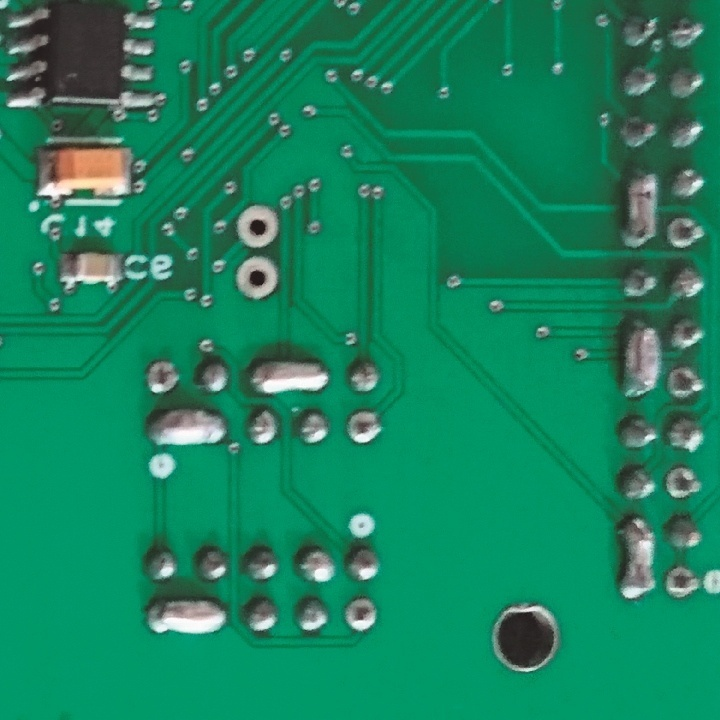F: (232, 255, 280, 304), (234, 200, 280, 249), (661, 560, 701, 604), (344, 406, 384, 446), (665, 363, 705, 402), (664, 212, 703, 252), (664, 462, 701, 501), (343, 596, 381, 633), (144, 357, 180, 395)
P: (247, 353, 332, 398), (616, 513, 657, 604), (147, 404, 226, 451), (620, 161, 659, 252), (623, 311, 661, 404), (144, 596, 229, 635)
